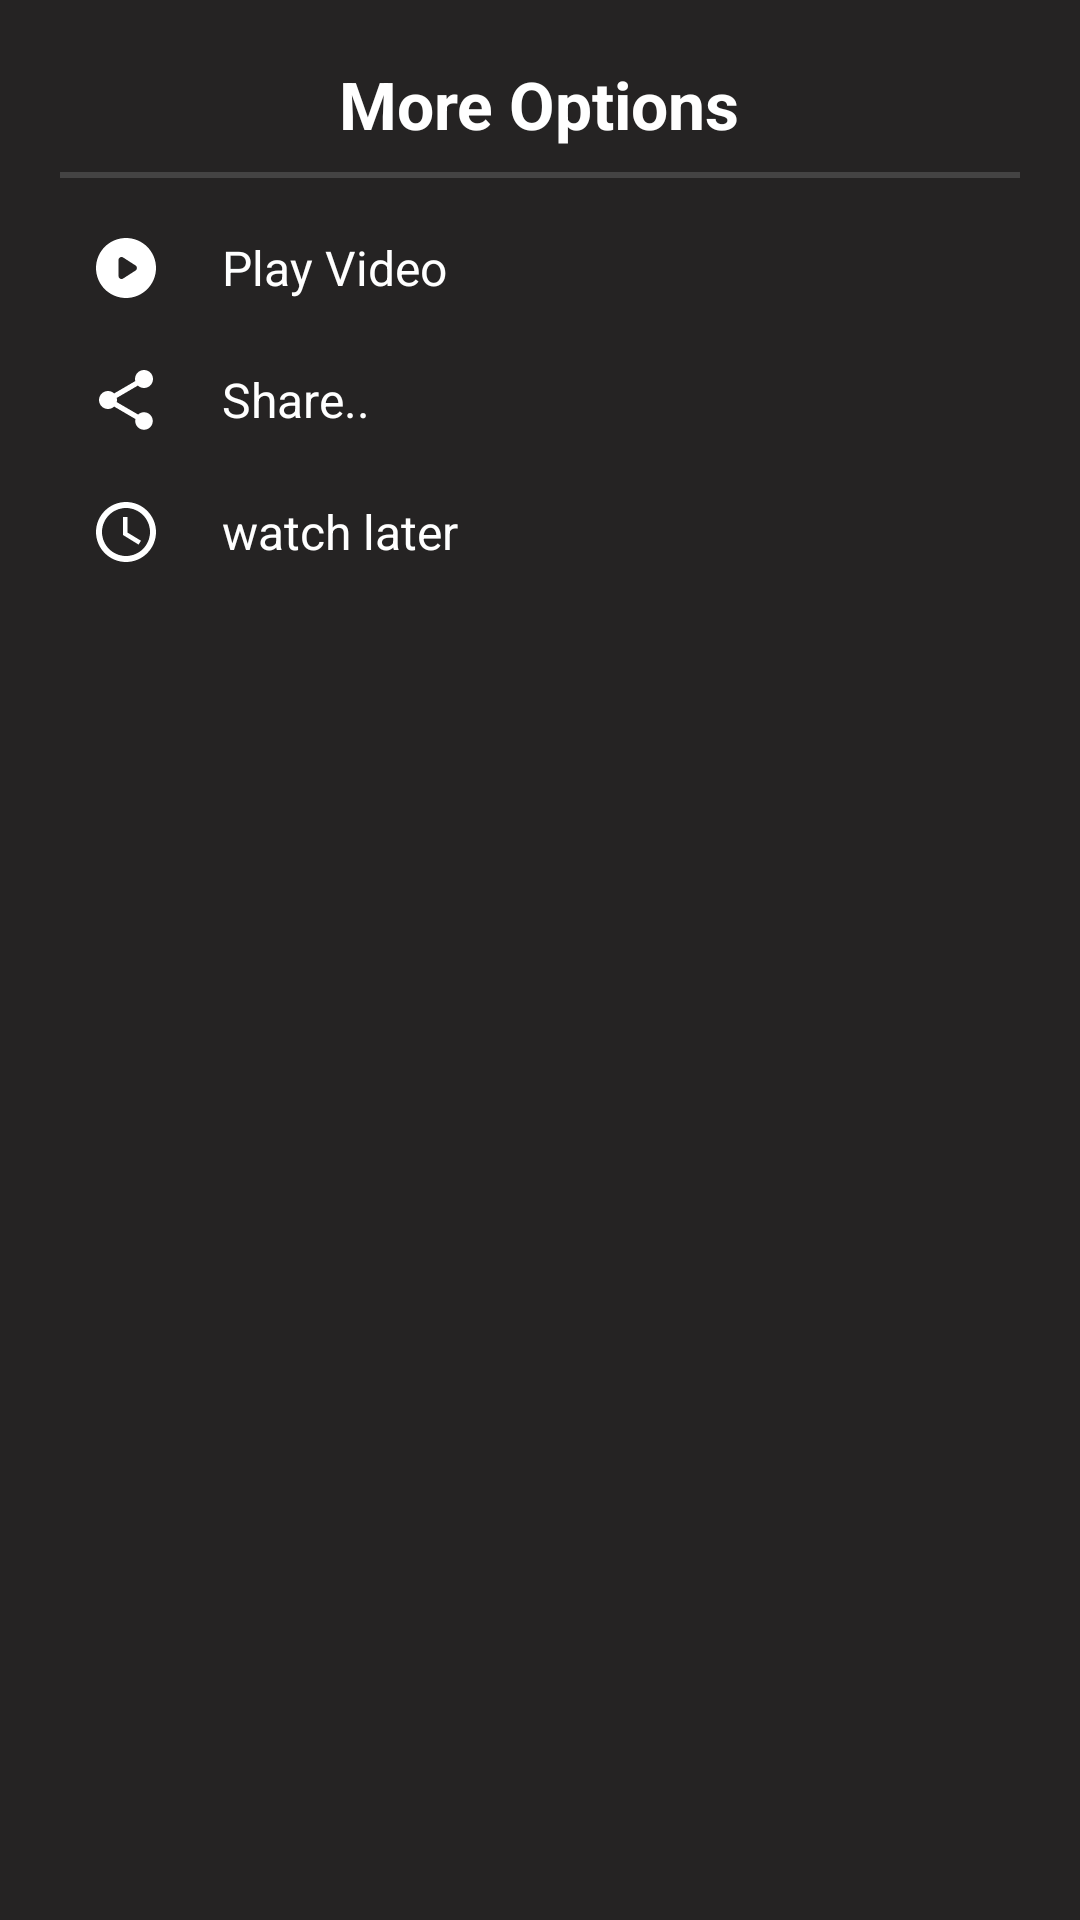

Screen size 1080w x 1920h. Icon name, then its center in pixels as (x,y):
exo play: (126,268)
